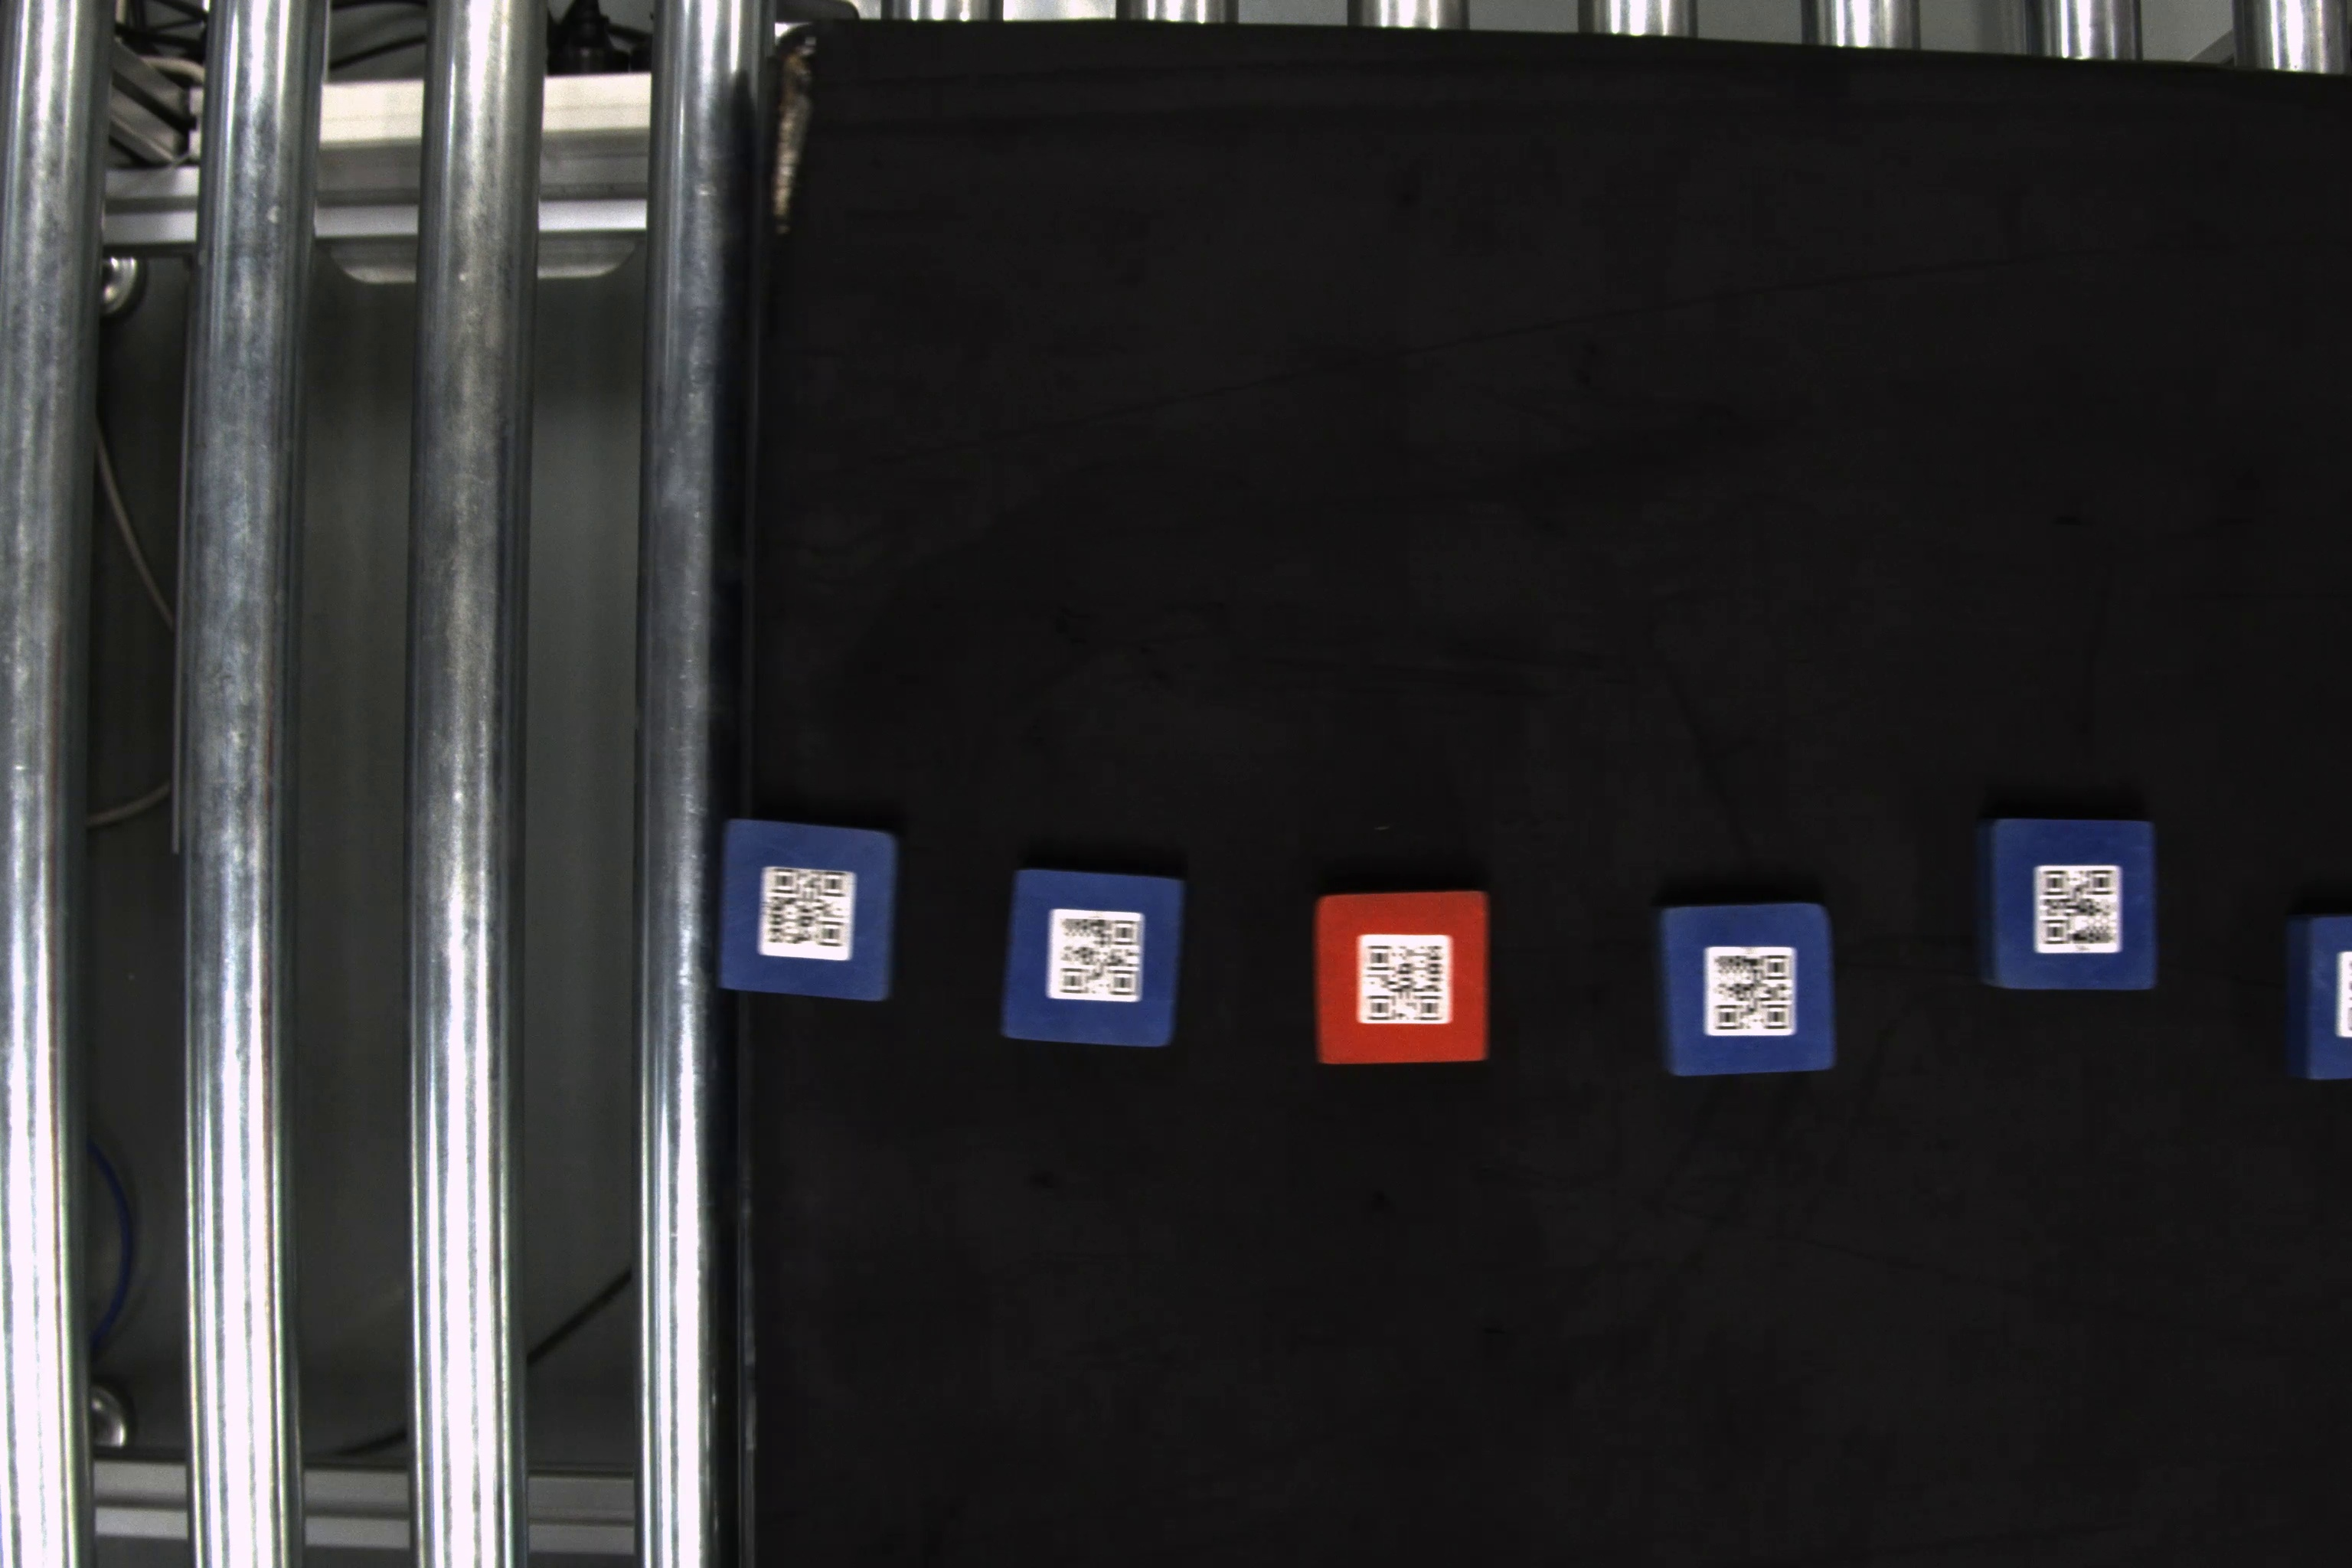wood: (1003, 861, 1192, 1050), (717, 815, 905, 1003), (1655, 903, 1844, 1085), (1311, 887, 1496, 1071), (1972, 810, 2158, 992), (2285, 913, 2352, 1090)
